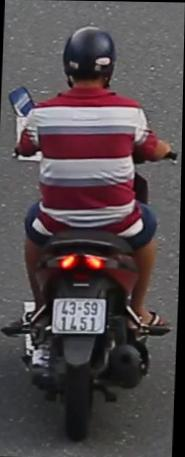LP: (50, 292, 108, 334)
helmet: (60, 21, 119, 89)
